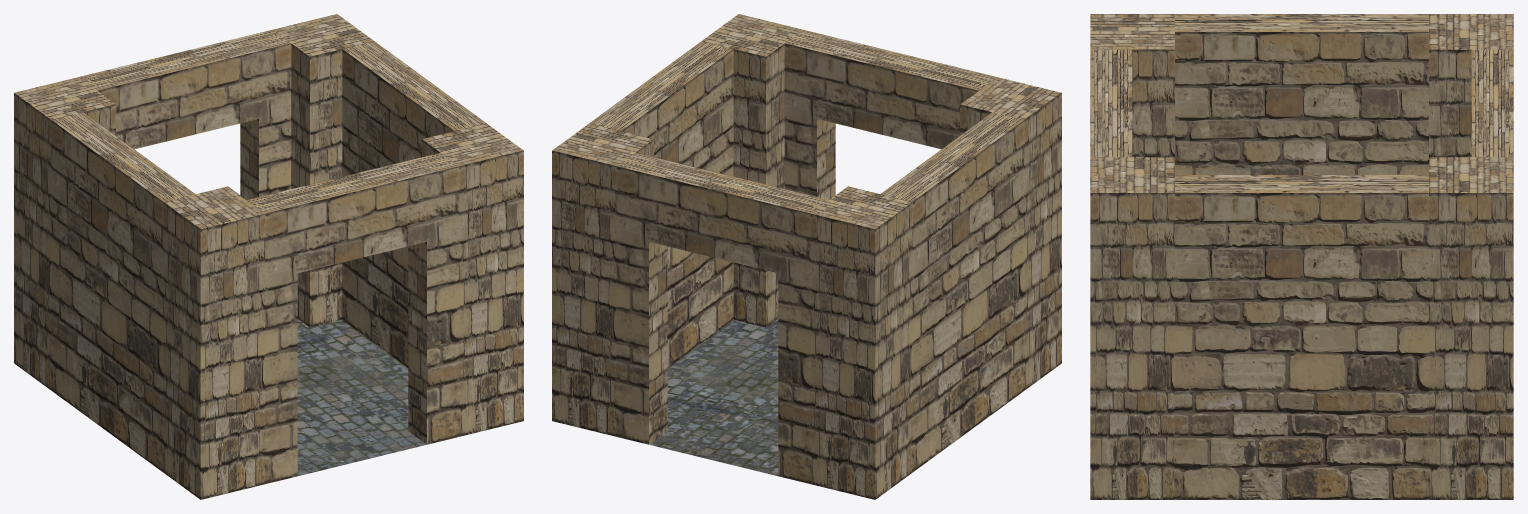
File: 1_singleDoorNS.fbx
The picture shows the model from 3 angles, left to right: view 1: azimuth 30°, elevation 25°; view 2: azimuth 150°, elevation 25°; view 3: azimuth 270°, elevation 25°; orthographic projection. The views are drawn at different scales.
Visible parts, largest first — view 1: Cube_1, Plane; view 2: Cube_1, Plane; view 3: Cube_1.
Boxes of the visible parts, x1=… form: Cube_1: x1=14, y1=14, x2=523, y2=499; Plane: x1=297, y1=319, x2=426, y2=475; Cube_1: x1=552, y1=14, x2=1061, y2=499; Plane: x1=649, y1=319, x2=778, y2=475; Cube_1: x1=1090, y1=14, x2=1513, y2=499.
Bounding box in the file's own units: 10 × 8 × 10.
Materials: 2 (2 with a texture image).
